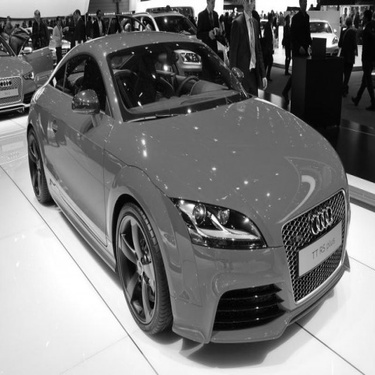car: (16, 28, 354, 348), (109, 3, 242, 77), (1, 34, 55, 123), (274, 14, 347, 60), (19, 20, 76, 70), (245, 12, 282, 55)
